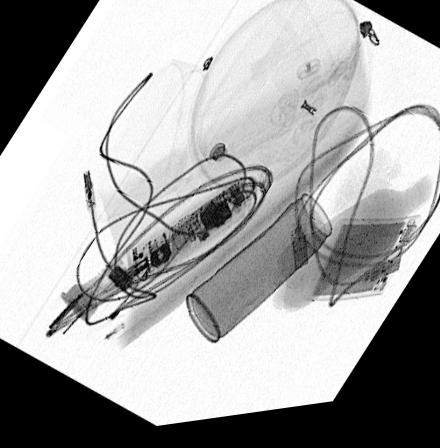Powerbank: (304, 227, 423, 310)
